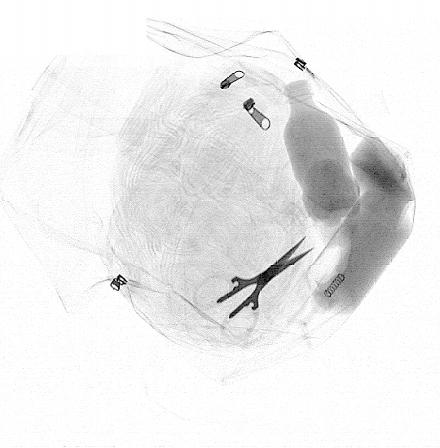Scissors: (189, 235, 315, 344)
